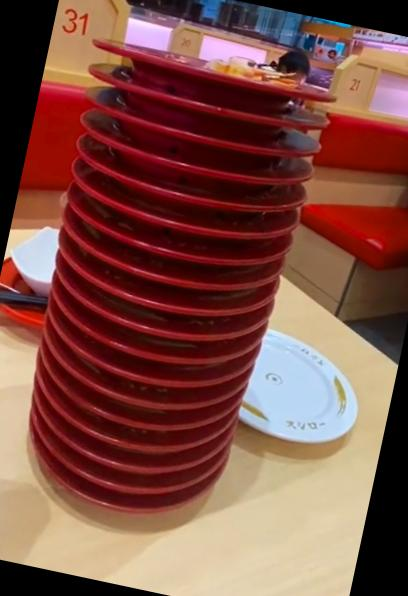Janred: (84, 27, 356, 115), (75, 119, 329, 203), (85, 64, 344, 146), (72, 148, 310, 230), (77, 94, 331, 168), (76, 181, 299, 256), (59, 254, 252, 330), (78, 214, 280, 283), (62, 312, 247, 382), (76, 298, 256, 358), (64, 344, 230, 404), (86, 249, 261, 305), (38, 480, 204, 535), (49, 463, 218, 512), (80, 402, 226, 450), (77, 378, 212, 425), (76, 422, 197, 468), (65, 446, 197, 486)
Janwhite: (244, 324, 383, 466)
